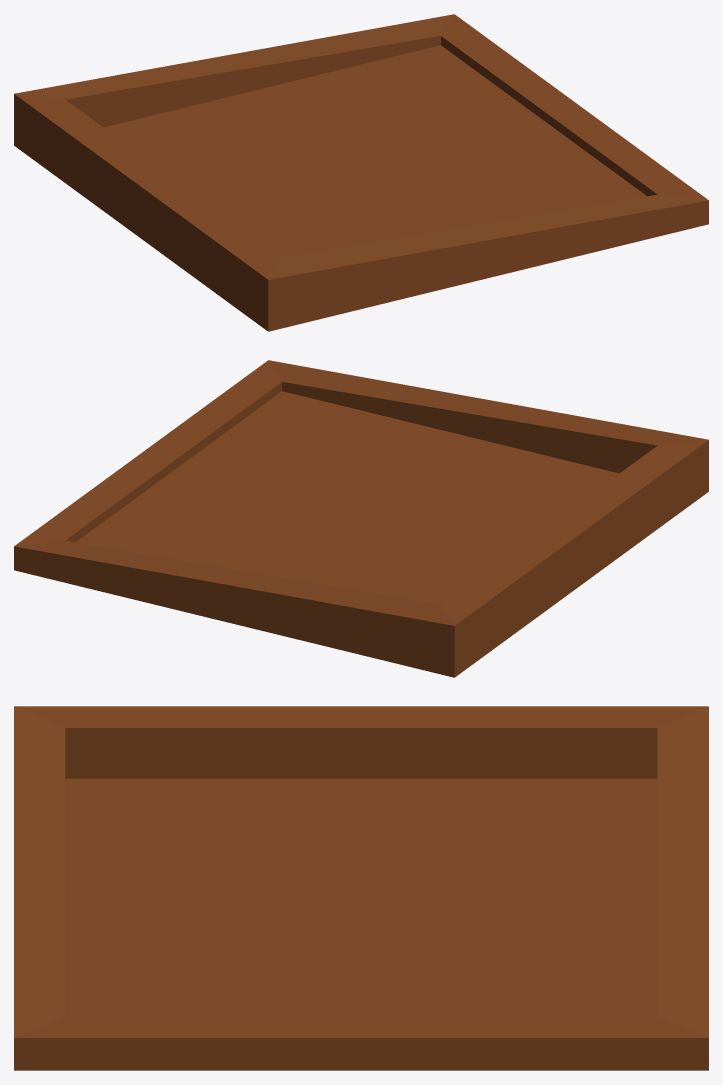
File: ChipPot.fbx
3 renders of one model, top to bottom at view 1: azimuth 30°, elevation 25°; view 2: azimuth 150°, elevation 25°; view 3: azimuth 270°, elevation 25°, orthographic. The views are drawn at different scales.
Parts seen in each view (by area): view 1: Cube; view 2: Cube; view 3: Cube.
Part boxes in pixels (bbox=[...]): Cube: bbox=[14, 14, 708, 331]; Cube: bbox=[14, 360, 708, 677]; Cube: bbox=[14, 706, 708, 1070].
Bounding box in the file's own units: 30.67 × 3.45 × 30.67.
